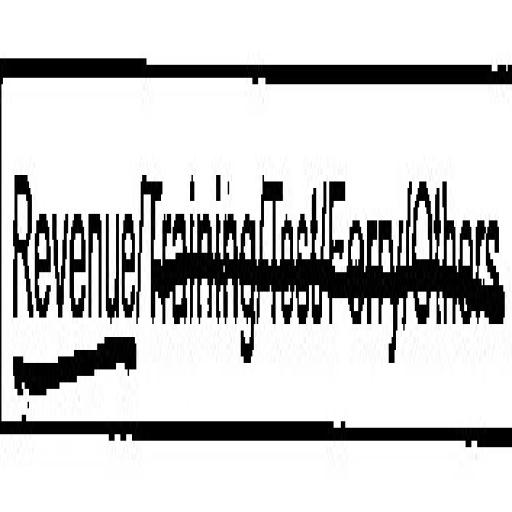check: (0, 6, 142, 466)
